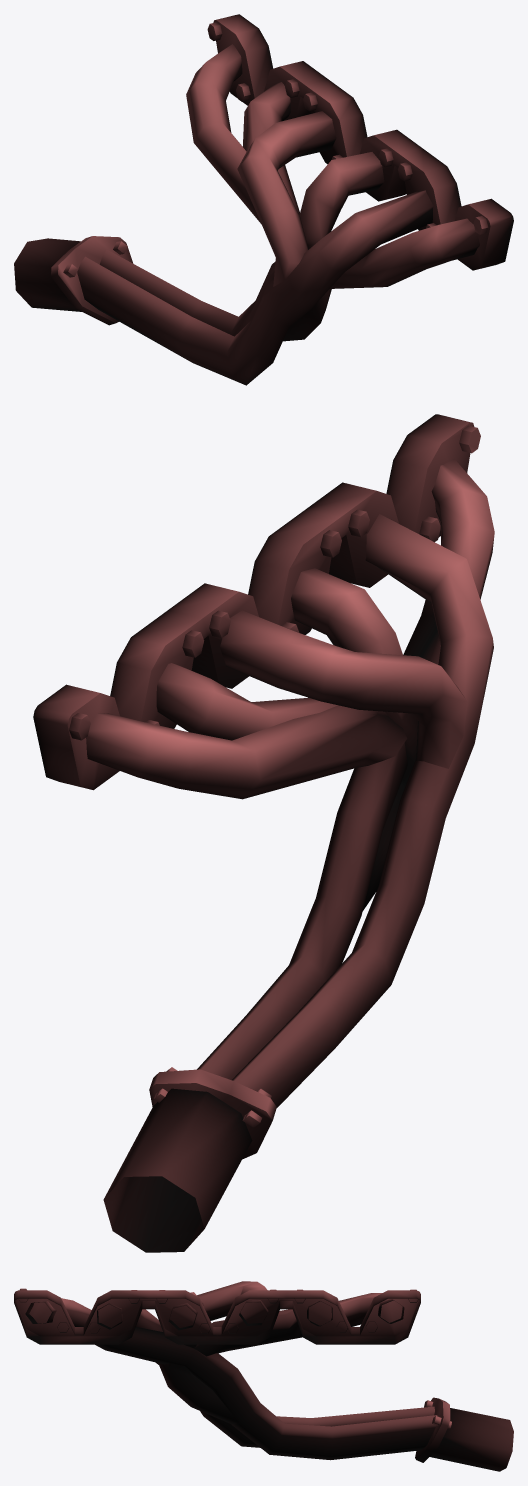
Rendered from JZ_ExhaustManifold3.fbx.
3 views of the same model, one above another, from view 1: azimuth 30°, elevation 25°; view 2: azimuth 150°, elevation 25°; view 3: azimuth 270°, elevation 25° (orthographic). The views are drawn at different scales.
Parts seen in each view (by area): view 1: ExhaustManifold3; view 2: ExhaustManifold3; view 3: ExhaustManifold3.
Boxes of the visible parts, x1=… form: ExhaustManifold3: x1=14, y1=14, x2=513, y2=385; ExhaustManifold3: x1=33, y1=414, x2=494, y2=1252; ExhaustManifold3: x1=14, y1=1281, x2=513, y2=1471.
Size of the model in its own units: 25.46 by 41.79 by 86.14.
